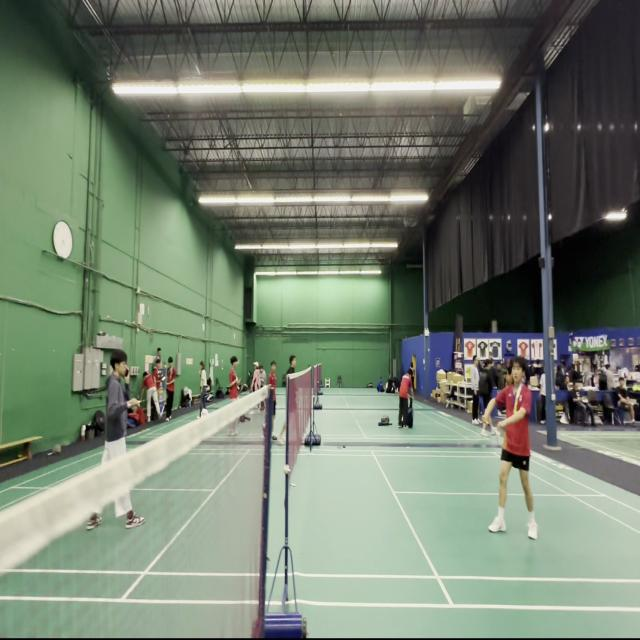shuttlecock: (495, 430, 503, 443)
